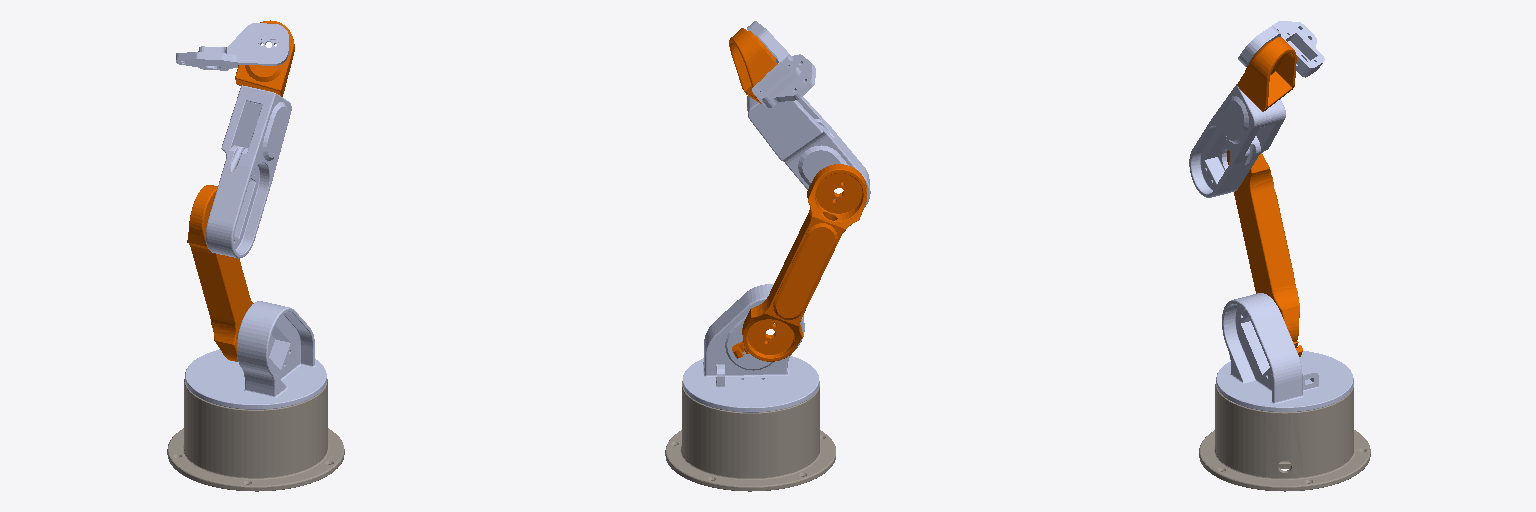
URDF robot description (robot):
<?xml version="1.0" encoding="utf-8"?>
<!-- This URDF was automatically created by SolidWorks to URDF Exporter! Originally created by [author] ([email redacted]) 
     Commit Version: 1.6.0-4-g7f85cfe  Build Version: 1.6.7995.38578
     For more information, please see http://wiki.ros.org/sw_urdf_exporter -->
<robot
  name="robot">
  <link
    name="base_link">
    <inertial>
      <origin
        xyz="-0.019909 -0.015649 0.017657"
        rpy="0 0 0" />
      <mass
        value="0.73769" />
      <inertia
        ixx="0.0009918"
        ixy="1.2255E-05"
        ixz="6.2315E-10"
        iyy="0.0015891"
        iyz="1.703E-10"
        izz="0.0010292" />
    </inertial>
    <visual>
      <origin
        xyz="0 0 0"
        rpy="0 0 0" />
      <geometry>
        <mesh
          filename="package://robot/meshes/base_link.STL" />
      </geometry>
      <material
        name="">
        <color
          rgba="0.65098 0.61961 0.58824 1" />
      </material>
    </visual>
    <collision>
      <origin
        xyz="0 0 0"
        rpy="0 0 0" />
      <geometry>
        <mesh
          filename="package://robot/meshes/base_link.STL" />
      </geometry>
    </collision>
  </link>
  <link
    name="waist">
    <inertial>
      <origin
        xyz="-0.00757624427193316 0.0187654281489953 -0.00224303990444597"
        rpy="0 0 0" />
      <mass
        value="0.0723116354710429" />
      <inertia
        ixx="6.24448229382837E-05"
        ixy="6.74891245543688E-06"
        ixz="-1.55080535130555E-06"
        iyy="5.69383171760199E-05"
        iyz="6.39937871821447E-06"
        izz="4.95682663059907E-05" />
    </inertial>
    <visual>
      <origin
        xyz="0 0 0"
        rpy="0 0 0" />
      <geometry>
        <mesh
          filename="package://robot/meshes/waist.STL" />
      </geometry>
      <material
        name="">
        <color
          rgba="0.792156862745098 0.819607843137255 0.933333333333333 1" />
      </material>
    </visual>
    <collision>
      <origin
        xyz="0 0 0"
        rpy="0 0 0" />
      <geometry>
        <mesh
          filename="package://robot/meshes/waist.STL" />
      </geometry>
    </collision>
  </link>
  <joint
    name="joint1"
    type="revolute">
    <origin
      xyz="-0.019548 -0.017657 0.017836"
      rpy="1.5708 0 2.1285" />
    <parent
      link="base_link" />
    <child
      link="waist" />
    <axis
      xyz="0 1 0" />
    <limit
      lower="0"
      upper="0"
      effort="0"
      velocity="0" />
  </joint>
  <link
    name="arm1">
    <inertial>
      <origin
        xyz="-0.000129461626298739 0.0592934523310191 0.00553362545474471"
        rpy="0 0 0" />
      <mass
        value="0.0565322759917321" />
      <inertia
        ixx="9.419187095933E-05"
        ixy="-1.76556773684122E-09"
        ixz="3.54391600250183E-10"
        iyy="7.28052768797673E-06"
        iyz="1.37123414656544E-09"
        izz="9.70176913810517E-05" />
    </inertial>
    <visual>
      <origin
        xyz="0 0 0"
        rpy="0 0 0" />
      <geometry>
        <mesh
          filename="package://robot/meshes/arm1.STL" />
      </geometry>
      <material
        name="">
        <color
          rgba="0.909803921568627 0.443137254901961 0.0313725490196078 1" />
      </material>
    </visual>
    <collision>
      <origin
        xyz="0 0 0"
        rpy="0 0 0" />
      <geometry>
        <mesh
          filename="package://robot/meshes/arm1.STL" />
      </geometry>
    </collision>
  </link>
  <joint
    name="joint2"
    type="revolute">
    <origin
      xyz="0 0.040395 -0.013891"
      rpy="-1.5708 1.1551 -1.5708" />
    <parent
      link="waist" />
    <child
      link="arm1" />
    <axis
      xyz="0 0 1" />
    <limit
      lower="0"
      upper="0"
      effort="0"
      velocity="0" />
  </joint>
  <link
    name="arm2">
    <inertial>
      <origin
        xyz="-4.10083257271765E-05 0.0381118737992974 0.0137229692390583"
        rpy="0 0 0" />
      <mass
        value="0.0569602551545198" />
      <inertia
        ixx="6.3654605447824E-05"
        ixy="1.16283405687416E-07"
        ixz="-6.44262107320226E-10"
        iyy="1.10410461043404E-05"
        iyz="-9.14844821471743E-07"
        izz="6.71524725910913E-05" />
    </inertial>
    <visual>
      <origin
        xyz="0 0 0"
        rpy="0 0 0" />
      <geometry>
        <mesh
          filename="package://robot/meshes/arm2.STL" />
      </geometry>
      <material
        name="">
        <color
          rgba="0.792156862745098 0.819607843137255 0.933333333333333 1" />
      </material>
    </visual>
    <collision>
      <origin
        xyz="0 0 0"
        rpy="0 0 0" />
      <geometry>
        <mesh
          filename="package://robot/meshes/arm2.STL" />
      </geometry>
    </collision>
  </link>
  <joint
    name="joint3"
    type="revolute">
    <origin
      xyz="0 0.12 0"
      rpy="3.1416 0 -2.082" />
    <parent
      link="arm1" />
    <child
      link="arm2" />
    <axis
      xyz="0 0 1" />
    <limit
      lower="0"
      upper="0"
      effort="0"
      velocity="0" />
  </joint>
  <link
    name="arm3">
    <inertial>
      <origin
        xyz="0.00504162764493016 0.0259328353386647 -0.00578967945596437"
        rpy="0 0 0" />
      <mass
        value="0.0181756022604538" />
      <inertia
        ixx="4.26207540741782E-06"
        ixy="1.19186691399718E-08"
        ixz="-4.38292446876519E-09"
        iyy="2.89563338381661E-06"
        iyz="6.02262230022176E-07"
        izz="5.35759613402206E-06" />
    </inertial>
    <visual>
      <origin
        xyz="0 0 0"
        rpy="0 0 0" />
      <geometry>
        <mesh
          filename="package://robot/meshes/arm3.STL" />
      </geometry>
      <material
        name="">
        <color
          rgba="0.909803921568627 0.443137254901961 0.0313725490196078 1" />
      </material>
    </visual>
    <collision>
      <origin
        xyz="0 0 0"
        rpy="0 0 0" />
      <geometry>
        <mesh
          filename="package://robot/meshes/arm3.STL" />
      </geometry>
    </collision>
  </link>
  <joint
    name="joint4"
    type="revolute">
    <origin
      xyz="-0.0051 0.083923 0.013449"
      rpy="-3.1416 1.2113 -3.1416" />
    <parent
      link="arm2" />
    <child
      link="arm3" />
    <axis
      xyz="0 1 0" />
    <limit
      lower="0"
      upper="0"
      effort="0"
      velocity="0" />
  </joint>
  <link
    name="gripper">
    <inertial>
      <origin
        xyz="-0.014023 0.0058168 0.023551"
        rpy="0 0 0" />
      <mass
        value="0.015721" />
      <inertia
        ixx="7.2474E-06"
        ixy="-3.5035E-07"
        ixz="-1.4285E-06"
        iyy="8.1158E-06"
        iyz="-1.3641E-06"
        izz="2.5605E-06" />
    </inertial>
    <visual>
      <origin
        xyz="0 0 0"
        rpy="0 0 0" />
      <geometry>
        <mesh
          filename="package://robot/meshes/gripper.STL" />
      </geometry>
      <material
        name="">
        <color
          rgba="0.79216 0.81961 0.93333 1" />
      </material>
    </visual>
    <collision>
      <origin
        xyz="0 0 0"
        rpy="0 0 0" />
      <geometry>
        <mesh
          filename="package://robot/meshes/gripper.STL" />
      </geometry>
    </collision>
  </link>
  <joint
    name="joint5"
    type="revolute">
    <origin
      xyz="0.005 0.035677 0"
      rpy="2.9118 -1.5708 0" />
    <parent
      link="arm3" />
    <child
      link="gripper" />
    <axis
      xyz="1 0 0" />
    <limit
      lower="0"
      upper="0"
      effort="0"
      velocity="0" />
  </joint>
</robot>

--- Facts derived from the render (not from the file) ---
The picture shows the robot from 3 angles, left to right: view 1: azimuth 30°, elevation 25°; view 2: azimuth 150°, elevation 25°; view 3: azimuth 270°, elevation 25°; orthographic projection.
Robot: robot — 6 links, 5 joints (5 revolute); root link base_link; default pose: every joint at zero.
Links seen in each view (by area): view 1: base_link, waist, arm2, arm1, gripper, arm3; view 2: base_link, arm1, waist, arm2, gripper, arm3; view 3: base_link, waist, arm2, arm1, arm3, gripper.
Link boxes in pixels (x1=…): base_link: x1=167, y1=379, x2=344, y2=491; waist: x1=185, y1=301, x2=326, y2=409; arm2: x1=206, y1=85, x2=291, y2=258; arm1: x1=187, y1=185, x2=253, y2=361; gripper: x1=176, y1=23, x2=289, y2=70; arm3: x1=235, y1=20, x2=294, y2=96; base_link: x1=665, y1=381, x2=835, y2=491; arm1: x1=732, y1=164, x2=866, y2=361; waist: x1=683, y1=284, x2=818, y2=412; arm2: x1=747, y1=96, x2=870, y2=207; gripper: x1=747, y1=21, x2=815, y2=107; arm3: x1=729, y1=28, x2=776, y2=103; base_link: x1=1199, y1=384, x2=1370, y2=491; waist: x1=1216, y1=293, x2=1353, y2=411; arm2: x1=1189, y1=84, x2=1285, y2=197; arm1: x1=1227, y1=150, x2=1302, y2=356; arm3: x1=1237, y1=37, x2=1296, y2=111; gripper: x1=1238, y1=21, x2=1324, y2=77.
Size in the robot's own frame: 0.1347 by 0.1281 by 0.3312 metres.
6 mesh visuals loaded from 6 distinct referenced files (6 binary STL).